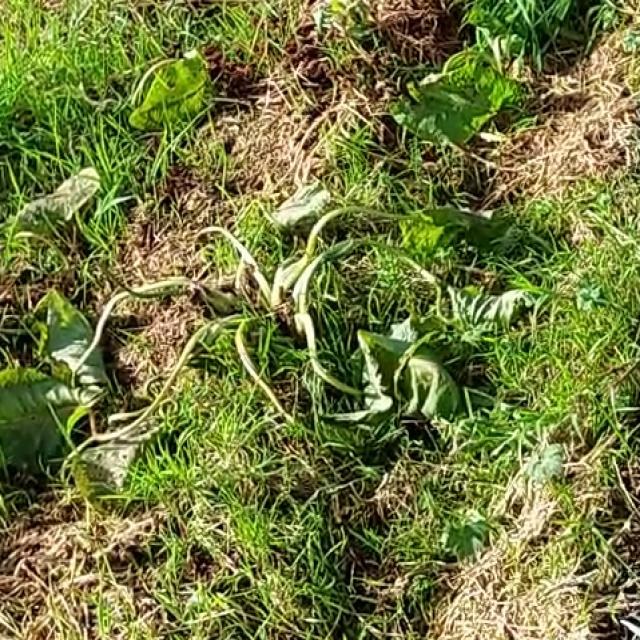organic waste: (7, 40, 580, 502)
